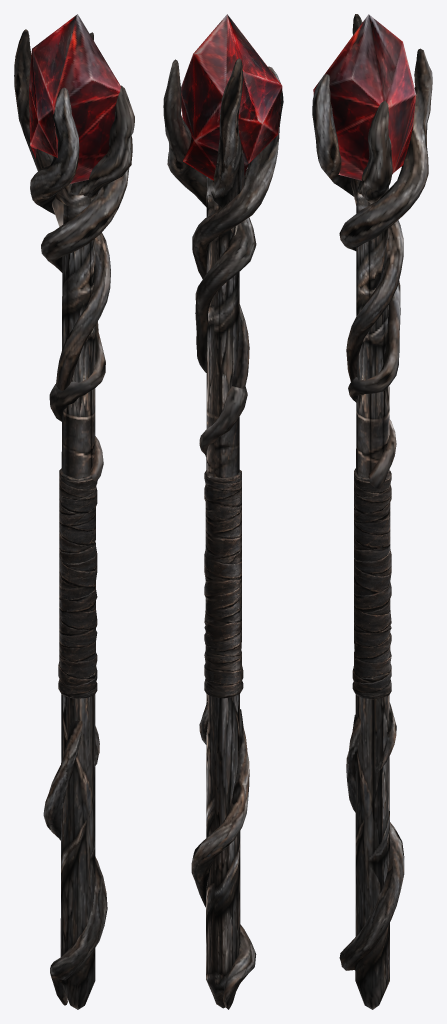
File: SM_H1Wand.fbx
3 renders of one model, left to right at view 1: azimuth 30°, elevation 25°; view 2: azimuth 150°, elevation 25°; view 3: azimuth 330°, elevation 25°, orthographic.
Parts seen in each view (by area): view 1: SM_H1Wand; view 2: SM_H1Wand; view 3: SM_H1Wand.
Boxes of the visible parts, left/top/right/bottom form: SM_H1Wand: left=14, top=14, right=134, bottom=1009; SM_H1Wand: left=163, top=14, right=283, bottom=1009; SM_H1Wand: left=312, top=14, right=432, bottom=1009.
Bounding box in the file's own units: 0.0688 × 0.7001 × 0.072.
